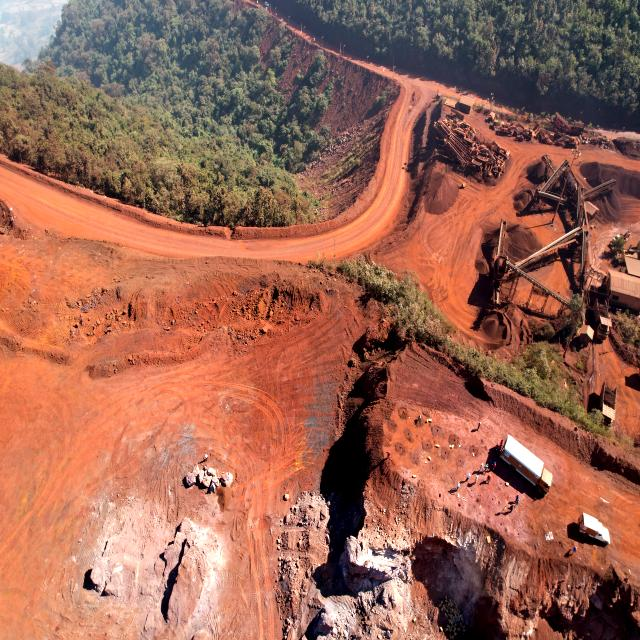Dumper truck: (593, 299, 610, 342), (601, 384, 617, 426)
car: (572, 511, 611, 548), (265, 1, 270, 7)
person: (502, 504, 506, 513), (457, 481, 460, 491), (387, 450, 390, 460), (478, 423, 481, 432), (468, 473, 470, 482)
